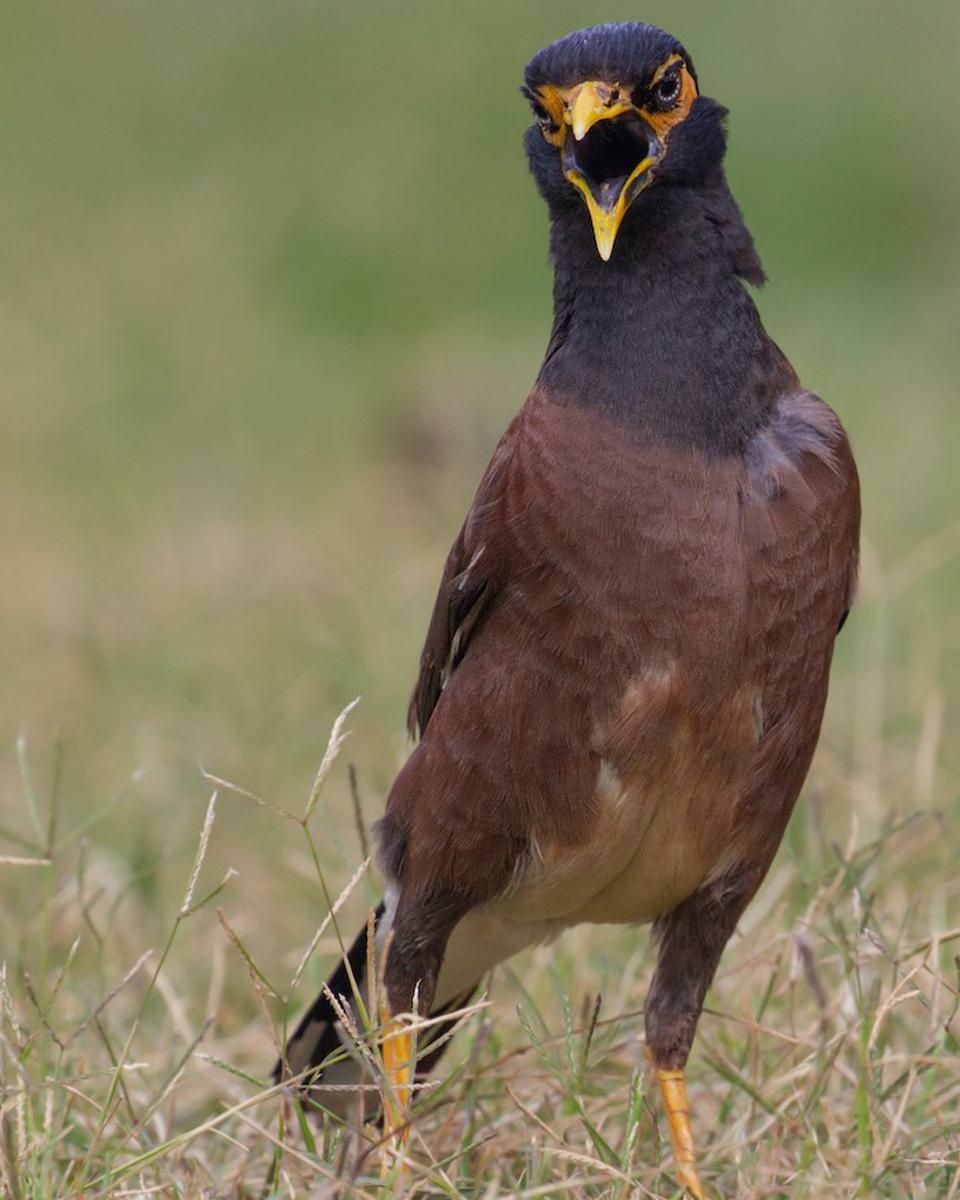myna: (468, 44, 868, 1121)
